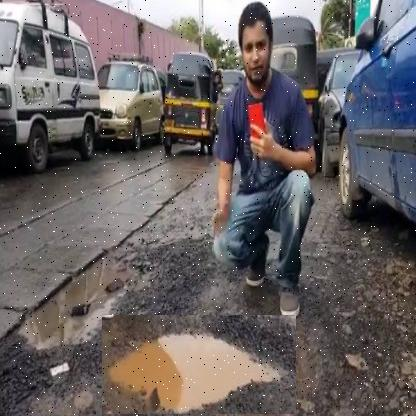pothole_water: (10, 232, 154, 372), (101, 315, 296, 415)
